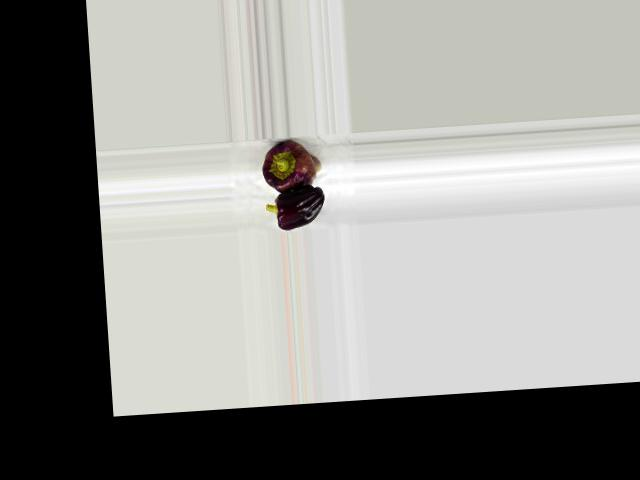bell_pepper: (249, 136, 332, 195)
